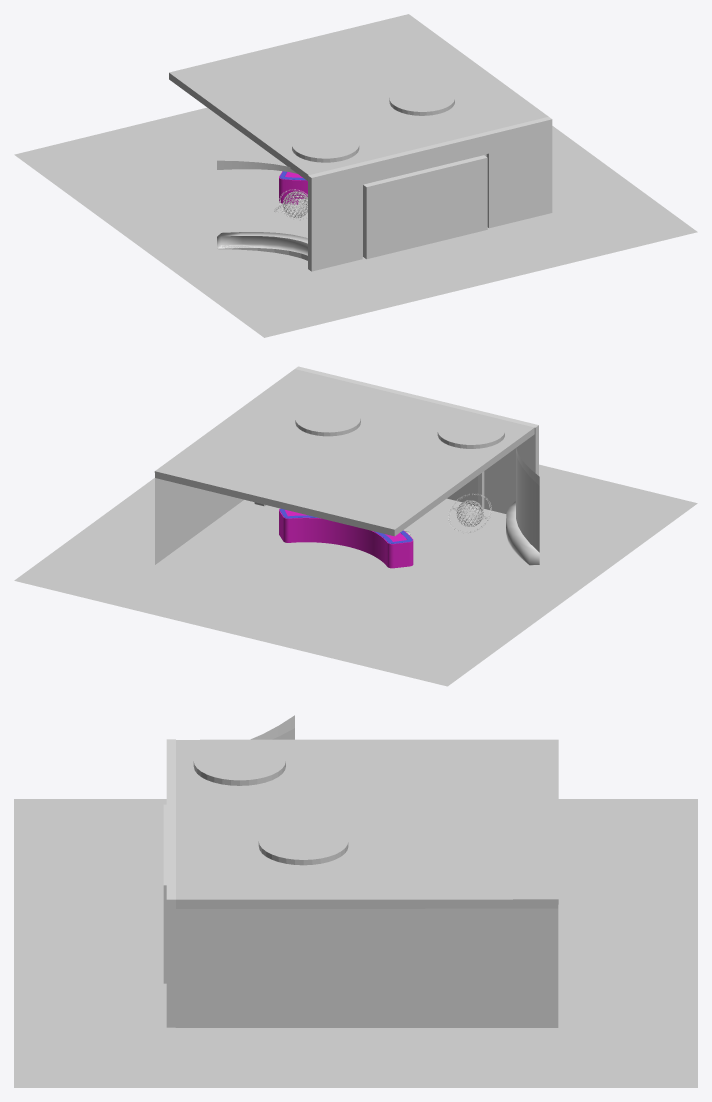
Rendered from room.glb.
3 views of the same model, one above another, from view 1: azimuth 30°, elevation 25°; view 2: azimuth 150°, elevation 25°; view 3: azimuth 270°, elevation 25° (orthographic). The views are drawn at different scales.
Visible parts, largest first — view 1: Plane, Plane.001, Cube, Plane.007, Cube.003, Icosphere.003; view 2: Plane, Plane.001, Plane.006, Cube.003, Cube, Plane.007, Icosphere.003; view 3: Plane, Plane.001, Plane.006, Cube.
Boxes of the visible parts, x1,y1,x2,y2 form: Plane: (14,107,697,337); Plane.001: (169,14,548,180); Cube: (308,117,552,271); Plane.007: (217,160,307,260); Cube.003: (279,171,307,204); Icosphere.003: (274,189,307,220); Plane: (14,464,697,686); Plane.001: (154,369,534,536); Plane.006: (155,478,243,564); Cube.003: (279,508,413,568); Cube: (295,366,538,513); Plane.007: (506,448,539,565); Icosphere.003: (448,493,491,532); Plane: (14,799,697,1087); Plane.001: (176,739,558,908); Plane.006: (176,908,558,1027); Cube: (163,739,175,1027).
Bounding box in the file's own units: 37.07 × 8.08 × 37.07.
